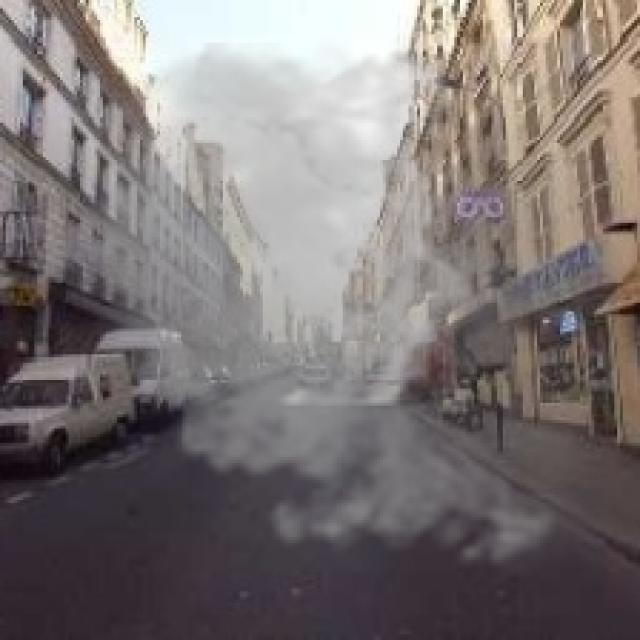smoke: (51, 37, 620, 583)
